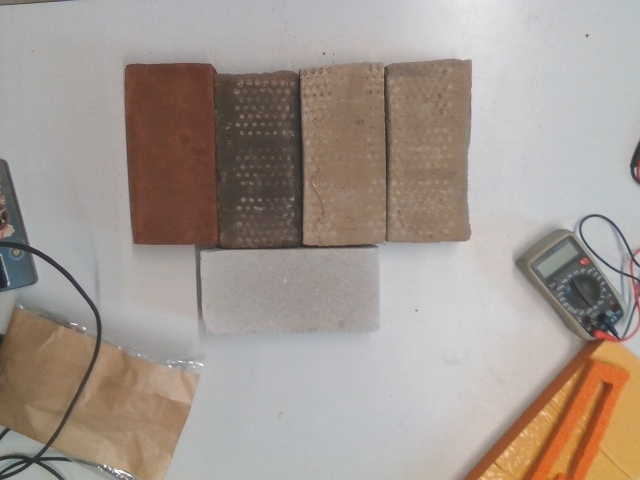brick: (387, 61, 470, 242), (301, 63, 383, 244), (201, 251, 377, 334), (131, 64, 211, 242), (220, 72, 294, 248)
